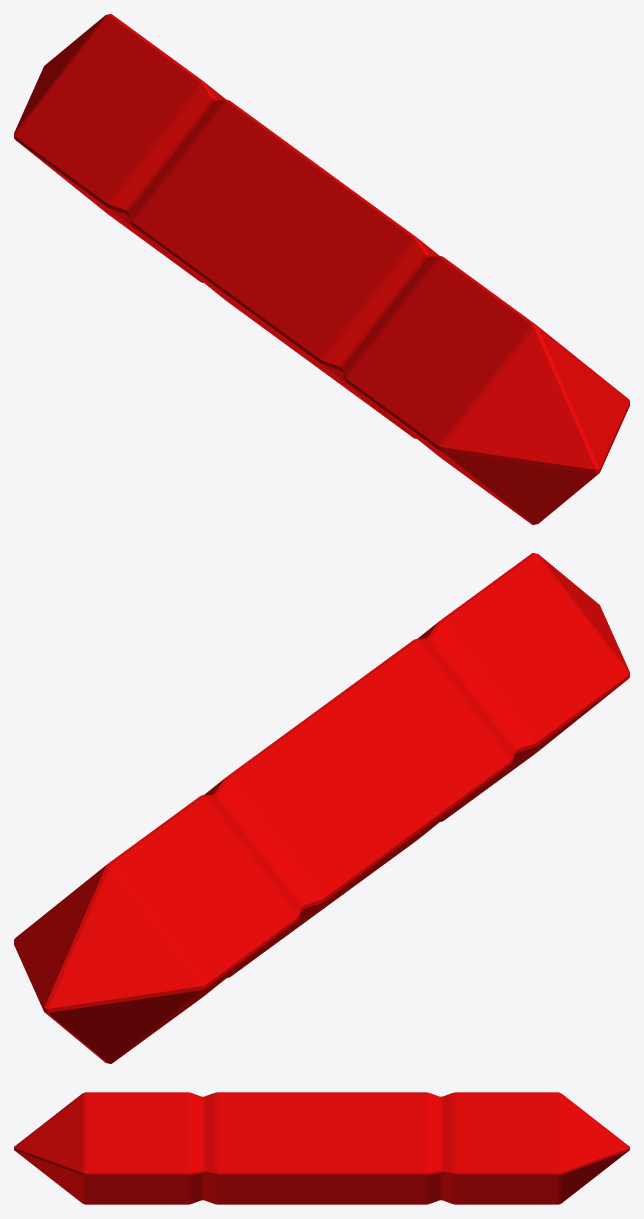
Rendered from EngineCrystal.glb.
3 renders of one model, top to bottom at view 1: azimuth 30°, elevation 25°; view 2: azimuth 150°, elevation 25°; view 3: azimuth 270°, elevation 25°, orthographic. The views are drawn at different scales.
Parts seen in each view (by area): view 1: Origin EngineCrystal; view 2: Origin EngineCrystal; view 3: Origin EngineCrystal.
Part boxes in pixels (x1=…): Origin EngineCrystal: x1=14, y1=14, x2=629, y2=524; Origin EngineCrystal: x1=14, y1=553, x2=629, y2=1063; Origin EngineCrystal: x1=14, y1=1092, x2=629, y2=1204.
Bounding box in the file's own units: 1.6 × 1.6 × 8.04.
